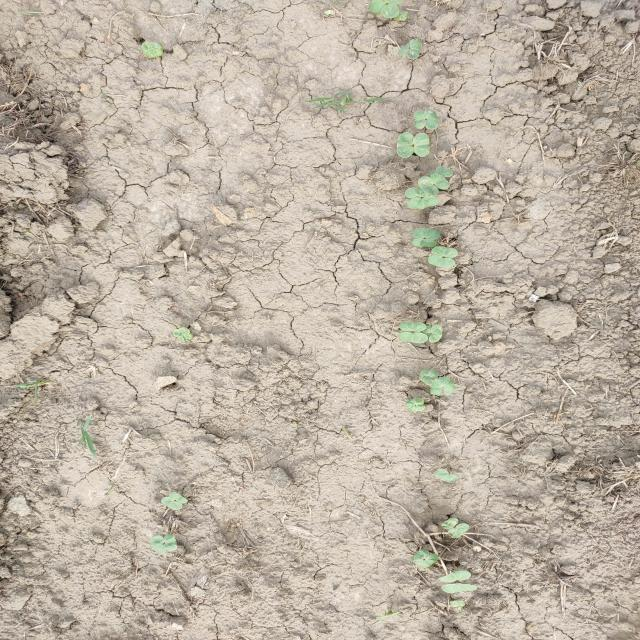seedling_s2: (370, 0, 399, 18), (412, 133, 430, 158), (397, 132, 414, 158), (407, 196, 439, 209), (439, 570, 471, 583), (418, 177, 439, 196), (427, 255, 456, 268), (398, 331, 428, 343), (442, 583, 477, 593), (438, 377, 456, 396), (430, 173, 450, 190), (423, 109, 439, 130), (412, 228, 440, 240), (407, 38, 422, 60), (448, 523, 470, 538), (431, 246, 458, 258), (150, 535, 166, 554), (405, 187, 430, 199), (435, 469, 458, 482), (161, 497, 183, 510), (428, 324, 443, 343), (398, 322, 426, 332), (421, 553, 439, 568), (413, 549, 429, 565), (163, 534, 177, 552), (412, 238, 437, 248), (429, 378, 443, 395), (141, 41, 162, 52), (169, 492, 188, 504), (424, 370, 438, 386), (414, 111, 426, 129), (435, 166, 453, 177), (145, 48, 164, 58), (441, 518, 458, 529), (405, 398, 417, 413), (173, 327, 190, 337), (398, 43, 410, 55), (415, 398, 425, 411), (178, 333, 194, 341), (419, 369, 428, 382), (450, 600, 465, 607)
